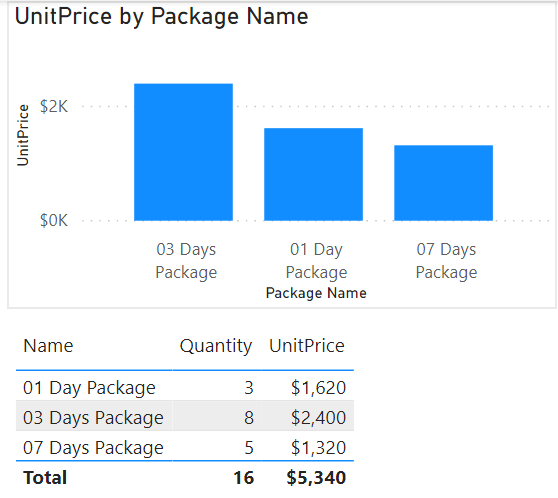

The page's visual inventory and layout, read from the dashboard file:
{"tool":"powerbi","page":{"name":"Page 1","canvas":[1280,720],"ordinal":0},"visuals":[{"type":"clusteredColumnChart","fields":{"Y":["Sum(ZagrosDW FactSales.UnitPrice)"],"Category":["ZagrosDW DimPackage.Name"]},"box":[10.4,0,383,213.9],"z":0},{"type":"tableEx","fields":{"Values":["ZagrosDW DimPackage.Name","Sum(ZagrosDW FactSales.Quantity)","Sum(ZagrosDW FactSales.UnitPrice)"]},"box":[10.4,223.3,372.5,127.3],"z":1}]}

Visuals, with their boxes on the page's 1280x720 design canvas (x1, y1, x2, y2). These are canvas units, not pixel positions in the 558x498 screenshot, which may show the page scaled, cropped or inside an application window:
clusteredColumnChart - Sum(ZagrosDW FactSales.UnitPrice) x ZagrosDW DimPackage.Name: {"x1": 10, "y1": 0, "x2": 393, "y2": 214}
tableEx - ZagrosDW DimPackage.Name x Sum(ZagrosDW FactSales.Quantity): {"x1": 10, "y1": 223, "x2": 383, "y2": 351}
